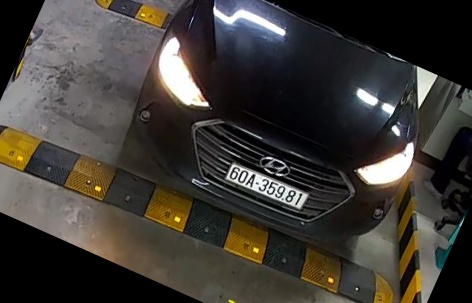plate: (225, 156, 314, 217)
